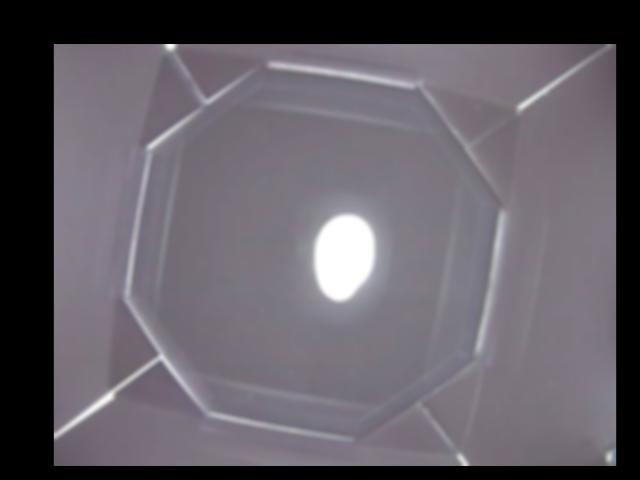Pebble: (313, 213, 375, 300)
